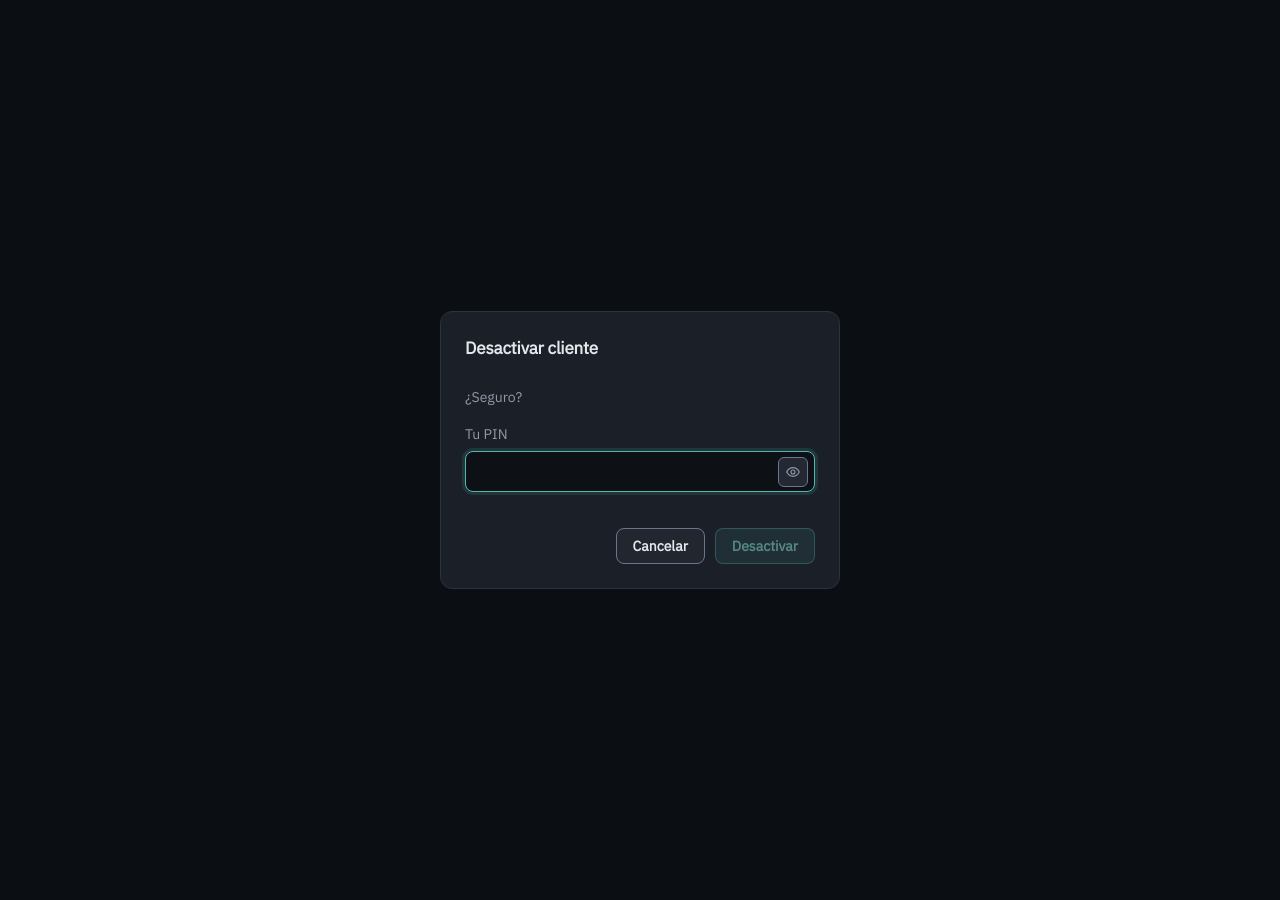
Test case: ConfirmDialog con PIN › si el PIN es incorrecto, el cuadro sigue abierto, lo explica y limpia el campo
The image size is (1280, 900).
Type "000000" into the password field labelled "Tu PIN". click: (640, 472)
box: [465,451,815,492]
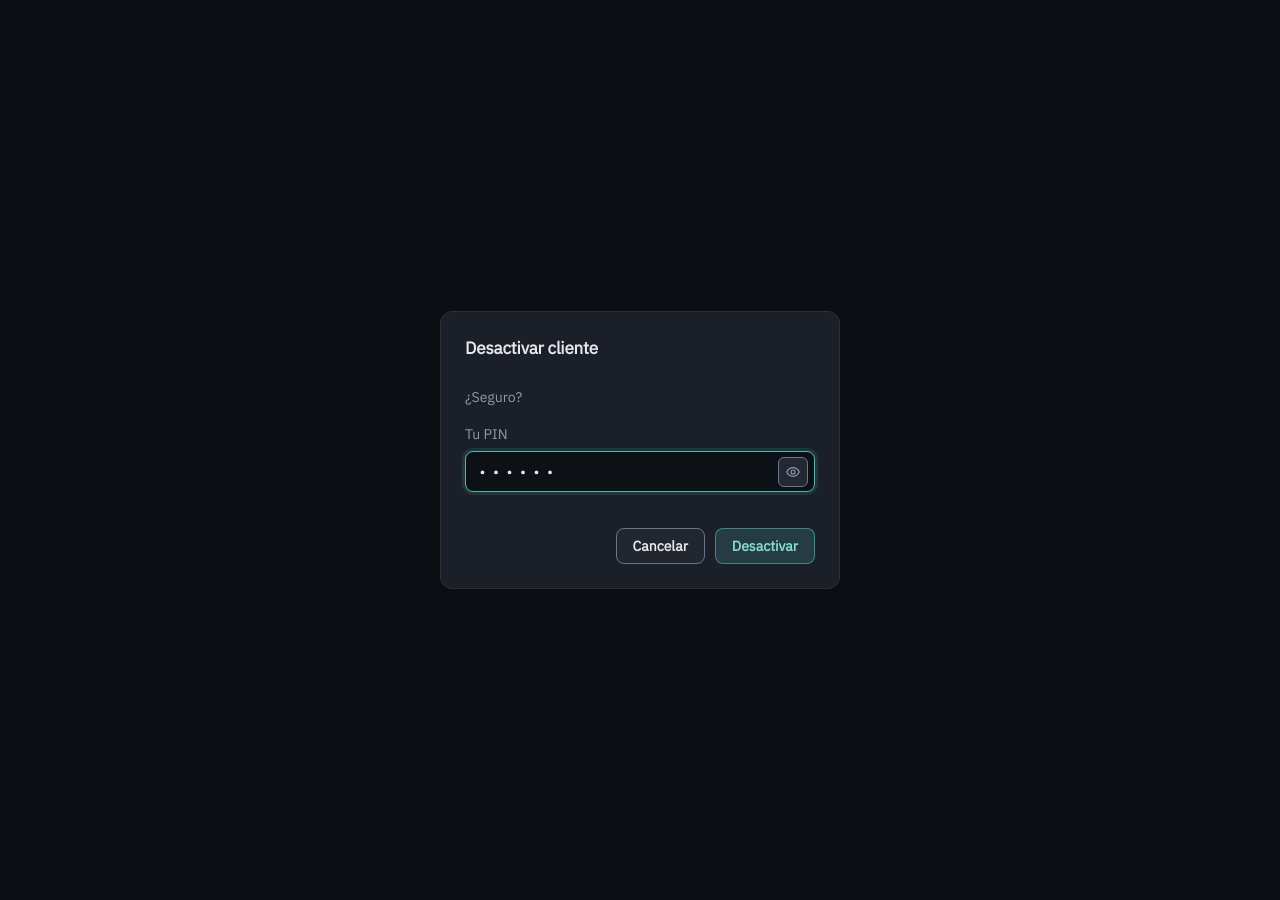
Click the button "Desactivar". click: (765, 546)
box: [715,528,815,564]
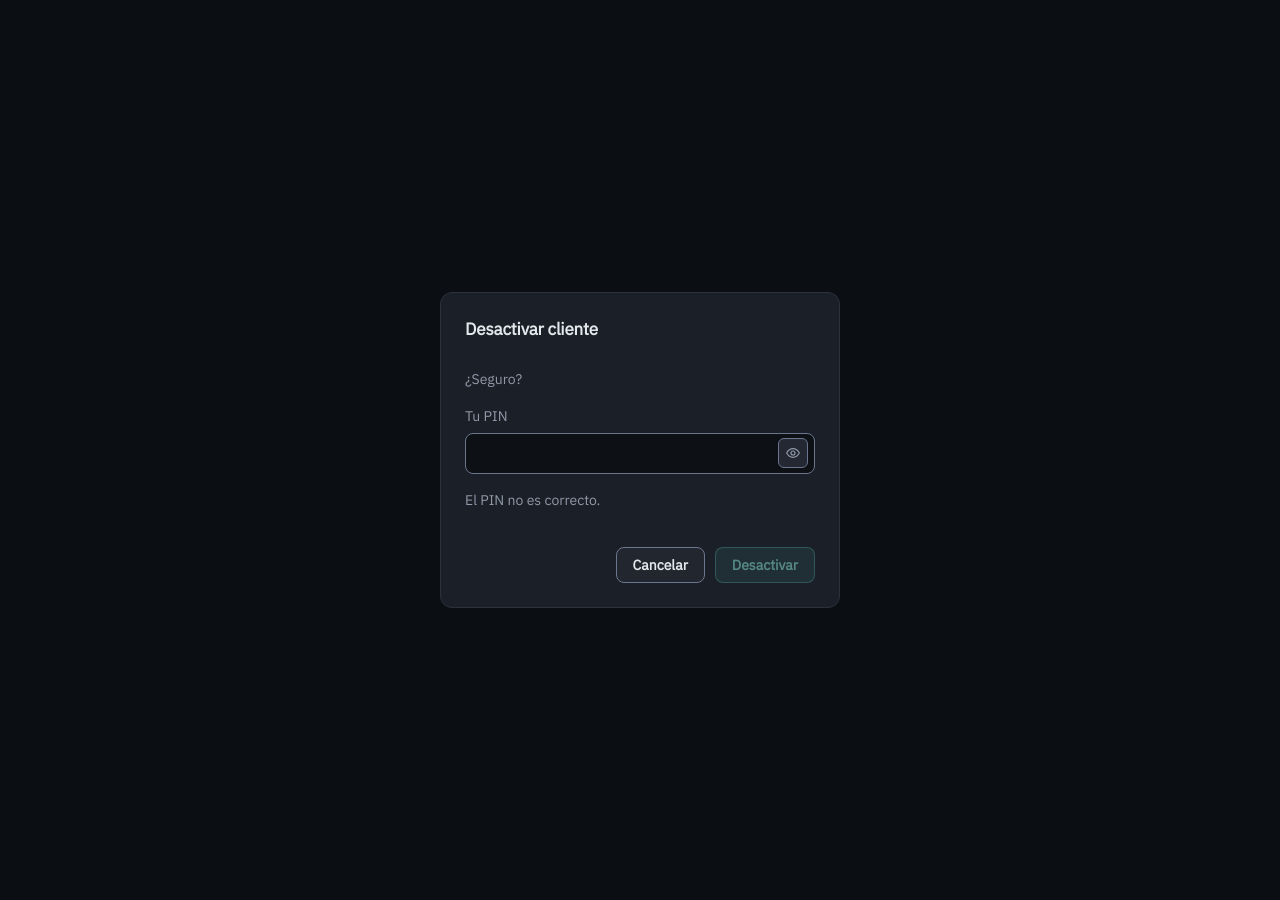
Expected: the dialog is shown, [440,292,840,608]
Now the message reads "El PIN no es correcto.", box [465,491,600,509]
Now the password field labelled "Tu PIN" is empty, box [465,433,815,474]
